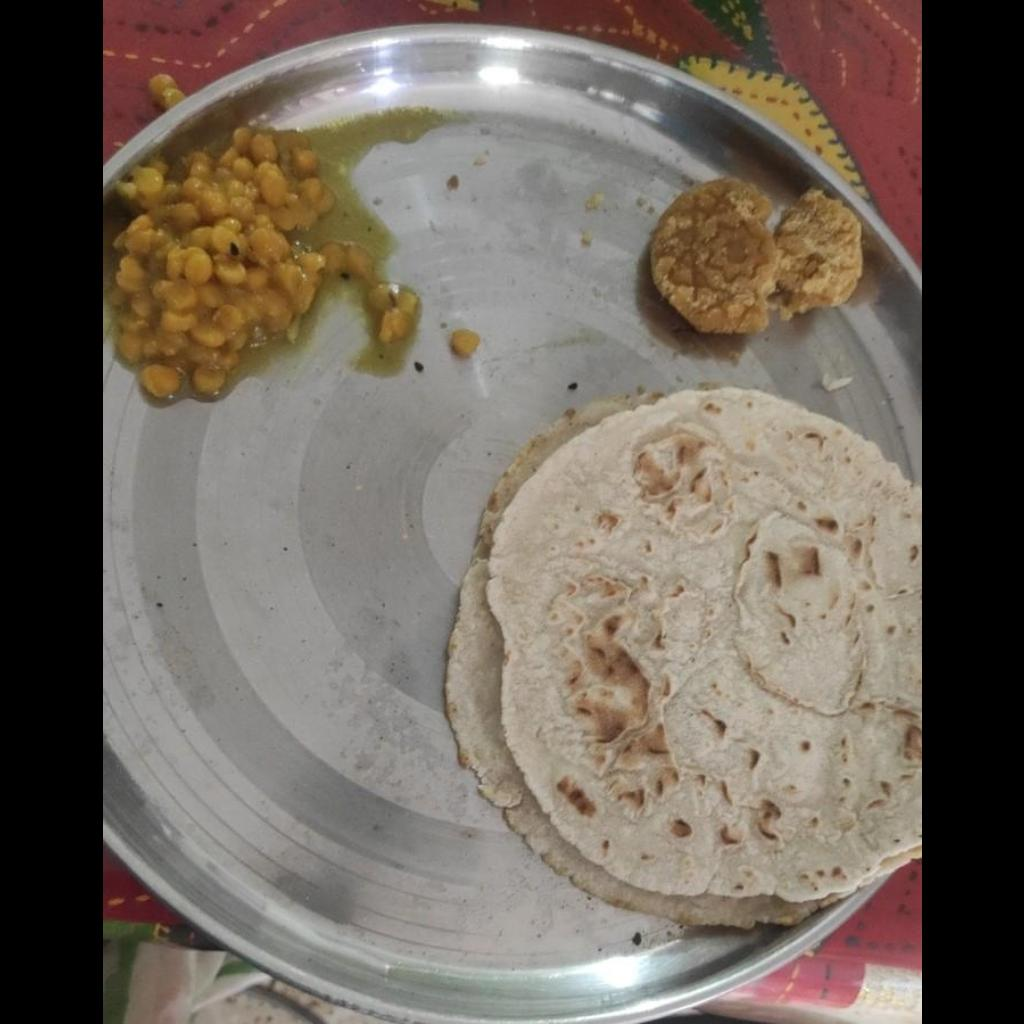daal: (115, 126, 417, 397)
ruti: (437, 385, 920, 928)
sweets: (641, 175, 859, 334)
